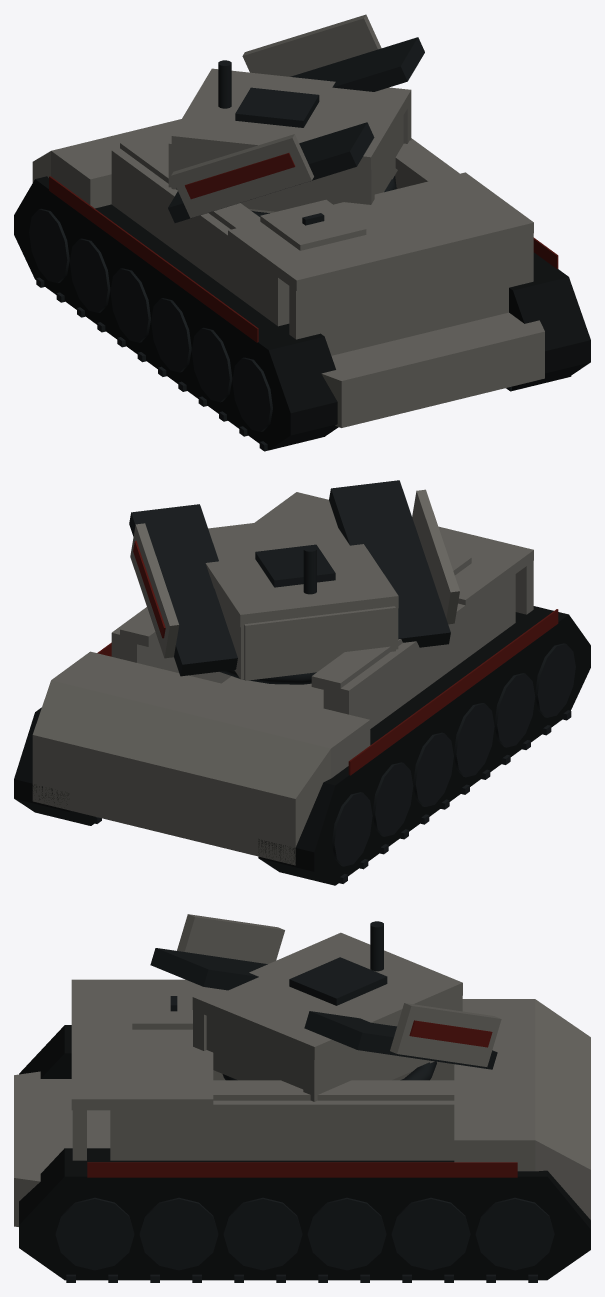
3 renders of one model, top to bottom at view 1: azimuth 30°, elevation 25°; view 2: azimuth 150°, elevation 25°; view 3: azimuth 270°, elevation 25°, orthographic. The views are drawn at different scales.
Visible parts, largest first — view 1: aa-tank-painted, turret-fleet-armor, launcher-left-fleet-armor, launcher-right-fleet-armor, launcher-right-fleet-machine, turret-fleet-machine, launcher-left-fleet-machine, launcher-left-fleet-red; view 2: aa-tank-painted, turret-fleet-armor, launcher-left-fleet-machine, launcher-right-fleet-machine, launcher-left-fleet-armor, turret-fleet-machine, launcher-right-fleet-armor, launcher-right-fleet-red; view 3: aa-tank-painted, turret-fleet-armor, launcher-right-fleet-armor, launcher-left-fleet-armor, turret-fleet-machine, launcher-left-fleet-machine, launcher-right-fleet-machine, launcher-right-fleet-red.
Boxes of the visible parts, box(x1,y1,x2,y2) form: aa-tank-painted: box(14, 119, 590, 451); turret-fleet-armor: box(168, 68, 411, 211); launcher-left-fleet-armor: box(171, 134, 313, 218); launcher-right-fleet-armor: box(242, 14, 381, 76); launcher-right-fleet-machine: box(290, 37, 424, 91); turret-fleet-machine: box(218, 60, 319, 127); launcher-left-fleet-machine: box(168, 122, 374, 222); launcher-left-fleet-red: box(185, 153, 295, 199); aa-tank-painted: box(14, 492, 590, 885); turret-fleet-armor: box(205, 513, 398, 680); launcher-left-fleet-machine: box(329, 480, 450, 647); launcher-right-fleet-machine: box(129, 504, 237, 676); launcher-left-fleet-armor: box(412, 489, 459, 624); turret-fleet-machine: box(255, 544, 335, 594); launcher-right-fleet-armor: box(130, 523, 179, 658); launcher-right-fleet-red: box(133, 540, 165, 638); aa-tank-painted: box(14, 979, 590, 1282); turret-fleet-armor: box(192, 932, 462, 1101); launcher-right-fleet-armor: box(390, 1003, 501, 1066); launcher-left-fleet-armor: box(177, 914, 284, 963); turret-fleet-machine: box(289, 921, 387, 1005); launcher-left-fleet-machine: box(150, 948, 267, 990); launcher-right-fleet-machine: box(304, 1011, 497, 1069); launcher-right-fleet-red: box(409, 1020, 492, 1047).
Size of the model in its own units: 21.39 by 16.72 by 33.68.
